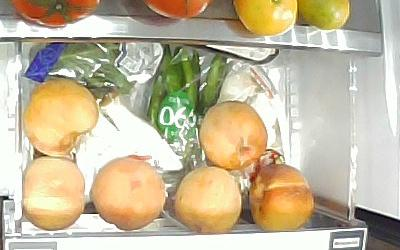peach: (22, 77, 98, 159), (89, 156, 167, 230), (22, 155, 86, 231), (199, 100, 268, 170), (176, 167, 243, 235), (248, 164, 312, 232)
